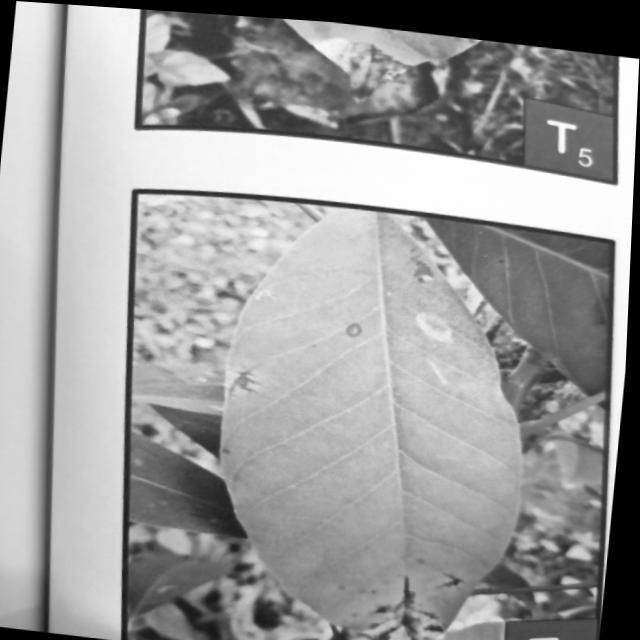Corynespora: (228, 361, 265, 397), (405, 569, 424, 603)
Leaf-Blight: (367, 597, 457, 640)
